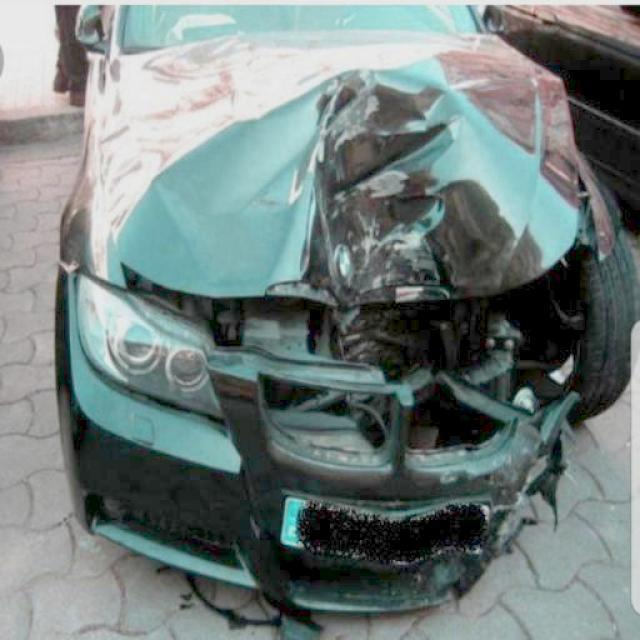car damage: (116, 43, 615, 308), (123, 244, 636, 424), (399, 370, 579, 532), (256, 368, 401, 468)
